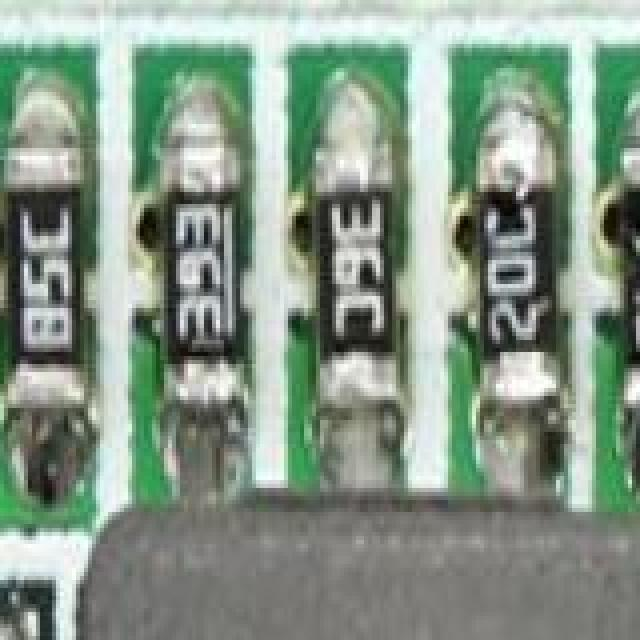inductor: (68, 492, 640, 640)
resistor: (468, 108, 568, 442), (0, 140, 96, 464), (300, 132, 402, 434), (152, 128, 248, 438), (620, 120, 640, 452), (0, 580, 12, 640)
